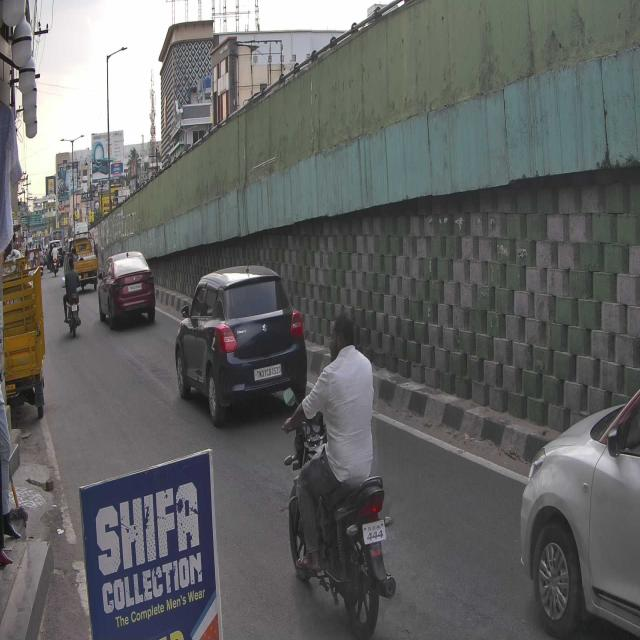single_rider: (280, 312, 398, 640)
